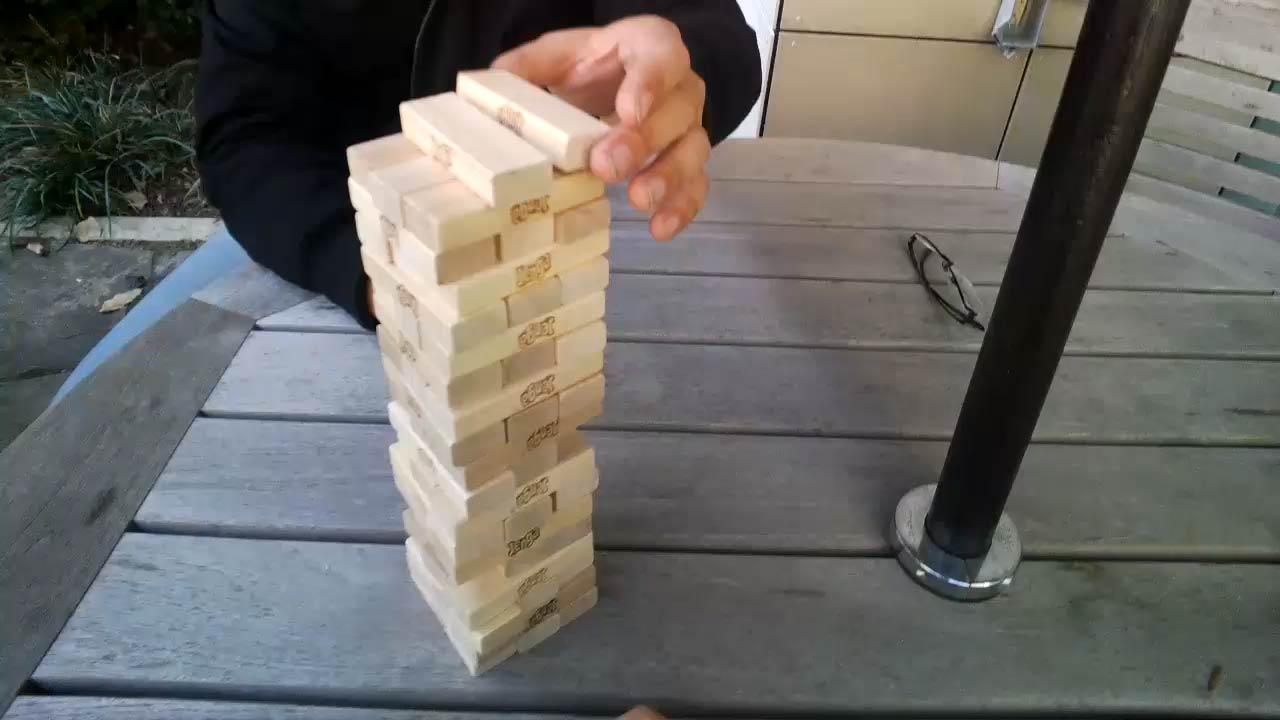hand: (492, 11, 723, 255)
